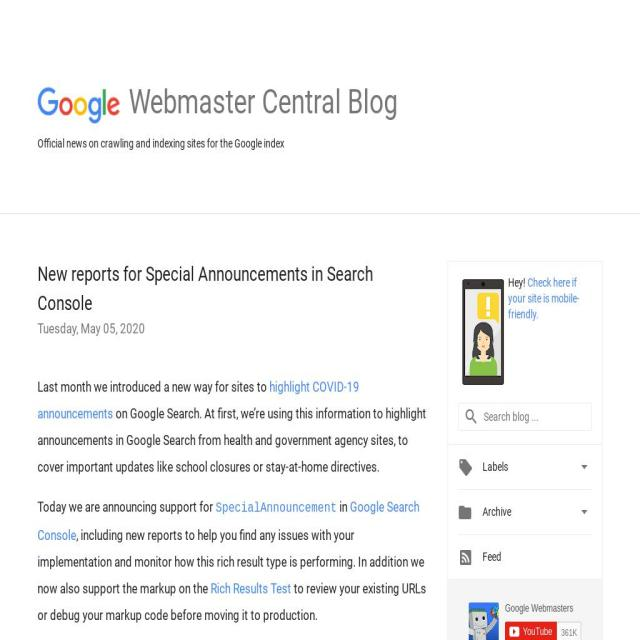button: (128, 112, 398, 126), (35, 85, 122, 124), (458, 544, 501, 564)
field: (458, 402, 592, 431)
heading: (38, 263, 373, 315), (128, 81, 398, 122), (38, 635, 428, 640), (482, 502, 512, 522), (483, 456, 508, 476), (482, 546, 502, 568)
iframe: (468, 601, 582, 640)
image: (38, 85, 602, 127), (458, 275, 508, 389), (458, 546, 473, 568), (458, 458, 473, 478)
link: (38, 498, 420, 544), (38, 378, 360, 422), (508, 276, 580, 321), (211, 580, 291, 597)
text: (38, 405, 426, 475), (38, 526, 424, 596), (38, 580, 426, 623), (38, 134, 602, 152), (38, 378, 270, 395), (38, 498, 216, 515), (216, 500, 336, 516), (37, 320, 145, 337), (458, 502, 472, 524), (577, 456, 592, 476), (577, 502, 592, 522), (508, 276, 528, 289), (336, 498, 350, 515)
